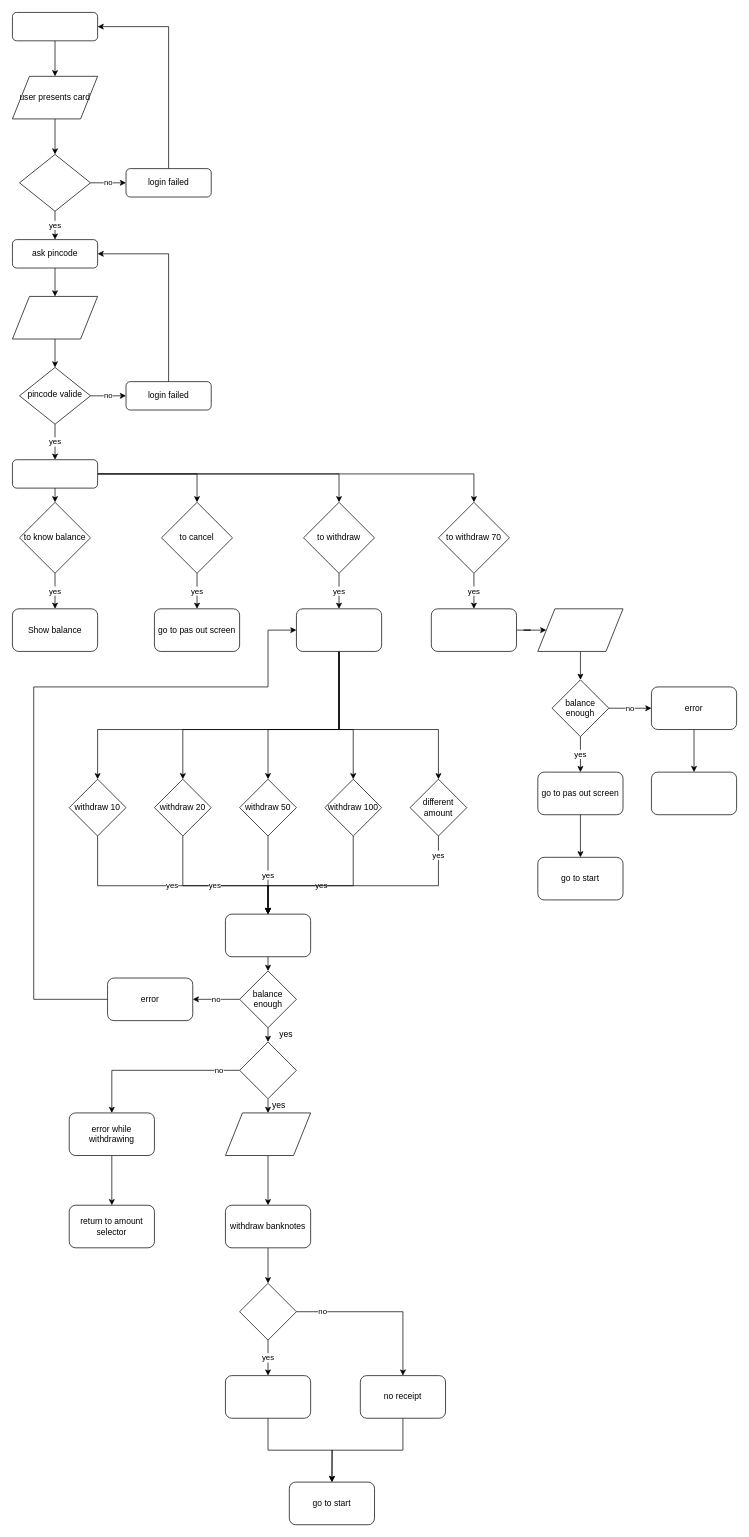
The diagram is 749 pixels wide and 1537 high, and some of its shapes have lost their labels. The centre of each missing label's shape, as x and y in pixels:
ask to present a cart: (55,26)
banknotes available: (267,1070)
card valide: (55,182)
print bon: (267,1311)
print receipt: (268,1396)
return to main menu: (694,793)
select banknotes: (268,935)
show main menu: (55,473)
to to withdraw screen: (339,629)
user enters amount: (580,629)
User enters pincode: (55,317)
User selects banknotes: (268,1134)
withdraw 70: (474,629)
